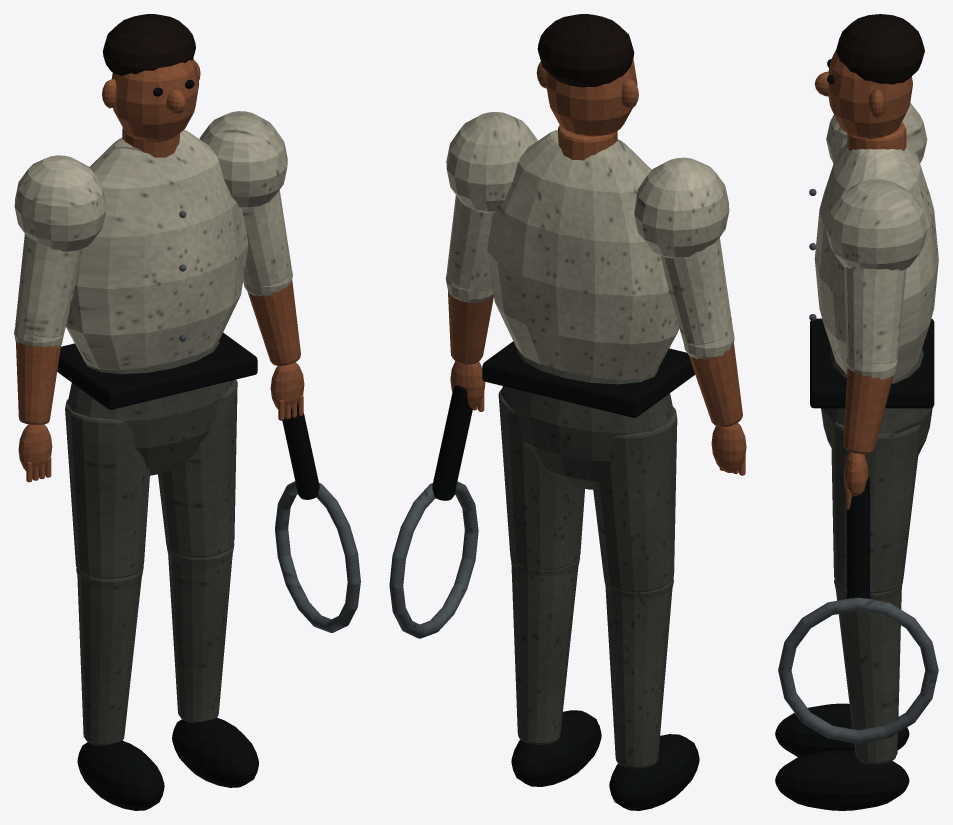
Rendered from PROP-3BB82CCD4F67_lod0.glb.
The picture shows the model from 3 angles, left to right: view 1: azimuth 30°, elevation 25°; view 2: azimuth 150°, elevation 25°; view 3: azimuth 270°, elevation 25°; orthographic projection. The views are drawn at different scales.
Parts seen in each view (by area): view 1: torso.053, thigh.052, calf.052, shoulder.053, shoe.052, upper_arm.053, pelvis.052, belt.052, forearm.053, head.052, hair_cap.052, tennis_racket (+6 smaller); view 2: torso.053, thigh.052, calf.052, shoulder.053, pelvis.052, upper_arm.053, shoe.052, belt.052, hair_cap.052, forearm.053, tennis_racket, head.052 (+5 smaller); view 3: torso.053, thigh.052, shoulder.053, shoe.052, calf.052, tennis_racket, upper_arm.053, hair_cap.052, belt.052, head.052, forearm.053, racket_handle (+6 smaller).
Boxes of the visible parts, x1=… form: torso.053: x1=65, y1=129, x2=248, y2=370; thigh.052: x1=65, y1=379, x2=237, y2=578; calf.052: x1=77, y1=555, x2=232, y2=746; shoulder.053: x1=14, y1=111, x2=287, y2=251; shoe.052: x1=77, y1=717, x2=258, y2=810; upper_arm.053: x1=15, y1=190, x2=291, y2=337; pelvis.052: x1=67, y1=341, x2=234, y2=475; belt.052: x1=57, y1=332, x2=257, y2=409; forearm.053: x1=15, y1=280, x2=300, y2=425; head.052: x1=111, y1=58, x2=199, y2=142; hair_cap.052: x1=103, y1=14, x2=195, y2=75; tennis_racket: x1=275, y1=481, x2=360, y2=632; torso.053: x1=487, y1=130, x2=679, y2=380; thigh.052: x1=498, y1=388, x2=677, y2=592; calf.052: x1=511, y1=562, x2=672, y2=768; shoulder.053: x1=446, y1=112, x2=729, y2=258; pelvis.052: x1=501, y1=350, x2=673, y2=489; upper_arm.053: x1=447, y1=195, x2=733, y2=344; shoe.052: x1=511, y1=710, x2=699, y2=810; belt.052: x1=482, y1=341, x2=694, y2=417; hair_cap.052: x1=537, y1=14, x2=634, y2=87; forearm.053: x1=448, y1=291, x2=742, y2=426; tennis_racket: x1=389, y1=481, x2=478, y2=638; head.052: x1=545, y1=59, x2=637, y2=136; torso.053: x1=814, y1=142, x2=938, y2=381; thigh.052: x1=831, y1=421, x2=921, y2=593; shoulder.053: x1=826, y1=103, x2=927, y2=270; shoe.052: x1=775, y1=703, x2=909, y2=810; calf.052: x1=836, y1=587, x2=901, y2=764; tennis_racket: x1=778, y1=597, x2=938, y2=743; upper_arm.053: x1=844, y1=267, x2=906, y2=363; hair_cap.052: x1=836, y1=14, x2=924, y2=84; belt.052: x1=810, y1=318, x2=934, y2=408; head.052: x1=828, y1=50, x2=912, y2=139; forearm.053: x1=843, y1=367, x2=893, y2=454; racket_handle: x1=847, y1=476, x2=869, y2=598.
Size of the model in its own units: 0.7734 by 1.84 by 0.3561.
Materials: 6 (6 with a texture image).
